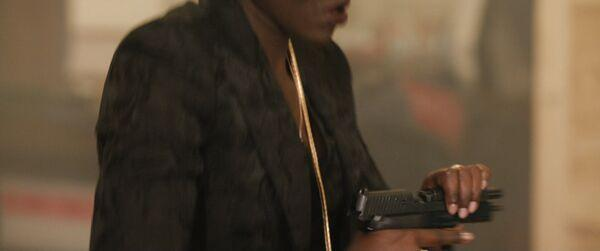Gun: (356, 186, 506, 235)
